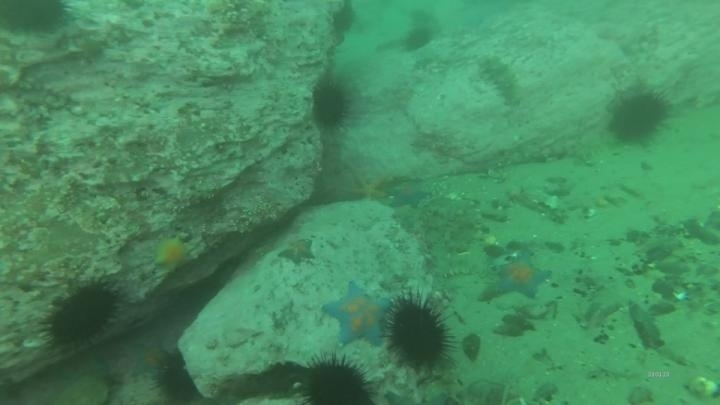echinus: (41, 277, 123, 351), (383, 293, 455, 372), (604, 85, 673, 147), (297, 354, 376, 405), (1, 1, 72, 38), (155, 350, 205, 401), (309, 77, 354, 132), (400, 25, 435, 54)
holothurian: (477, 51, 523, 108), (426, 248, 485, 281)
starfish: (321, 280, 394, 349), (492, 255, 552, 301), (150, 233, 196, 275), (129, 340, 172, 379), (388, 180, 432, 210), (276, 235, 318, 266), (354, 174, 387, 201)
